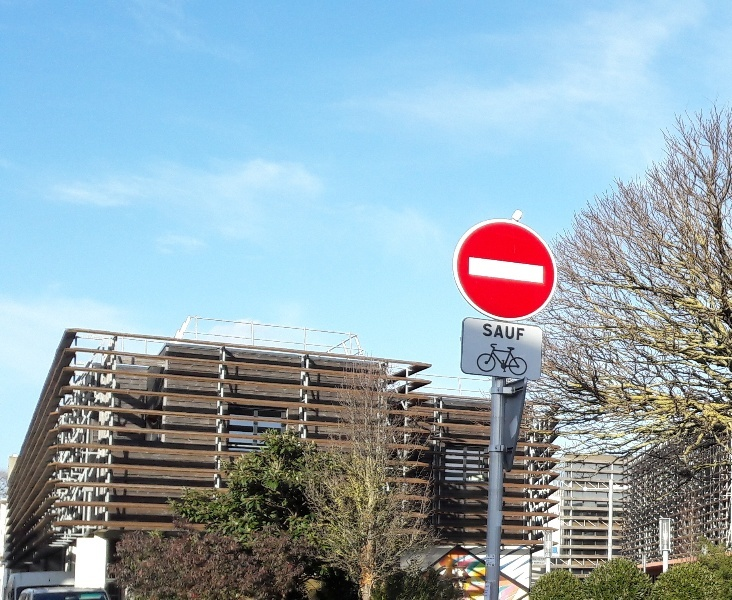text: (497, 323, 512, 341), (484, 323, 496, 341), (513, 323, 525, 341), (532, 559, 544, 561), (532, 562, 544, 564), (487, 558, 496, 560)
